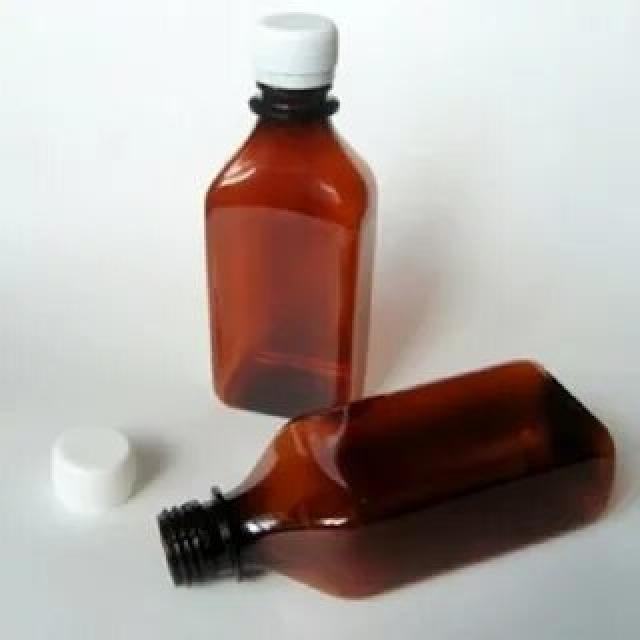brown: (162, 355, 615, 602), (200, 82, 378, 420)
